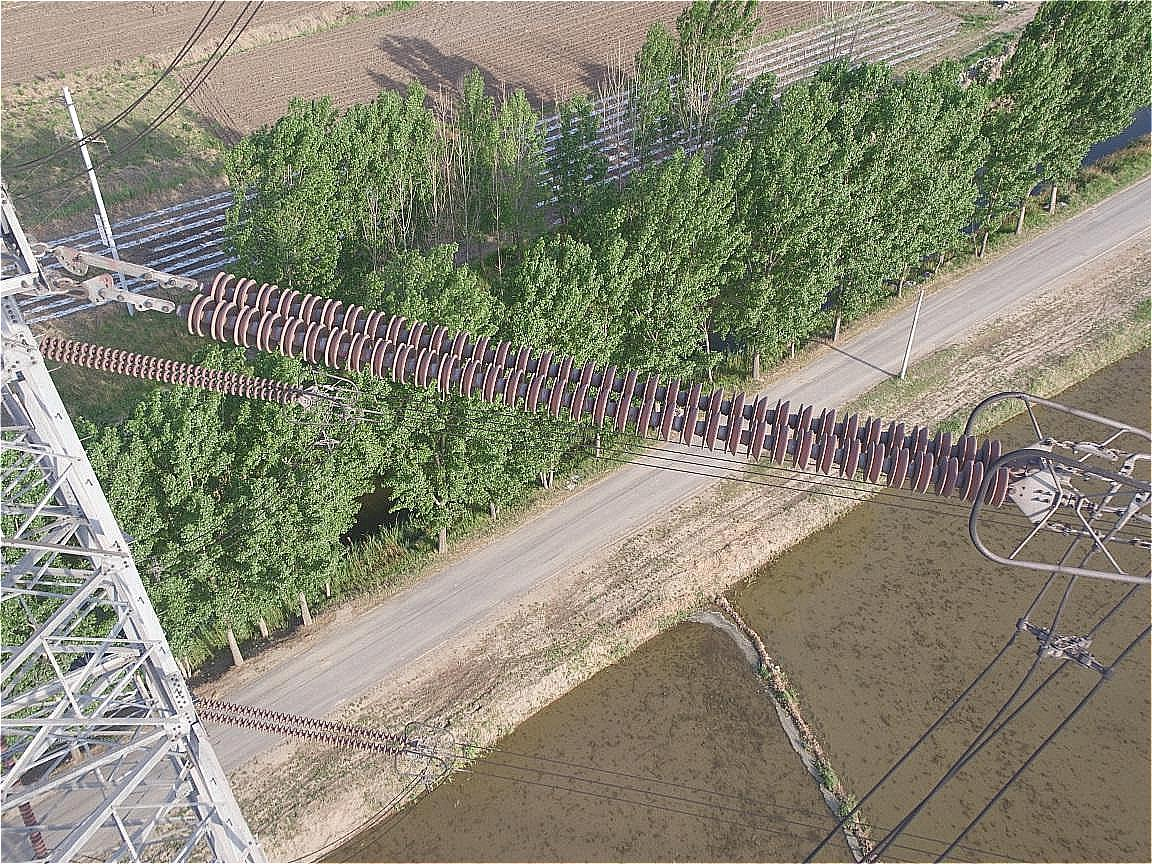insultor1: (40, 336, 298, 405), (201, 698, 408, 756)
insultor2: (187, 271, 1011, 507)
